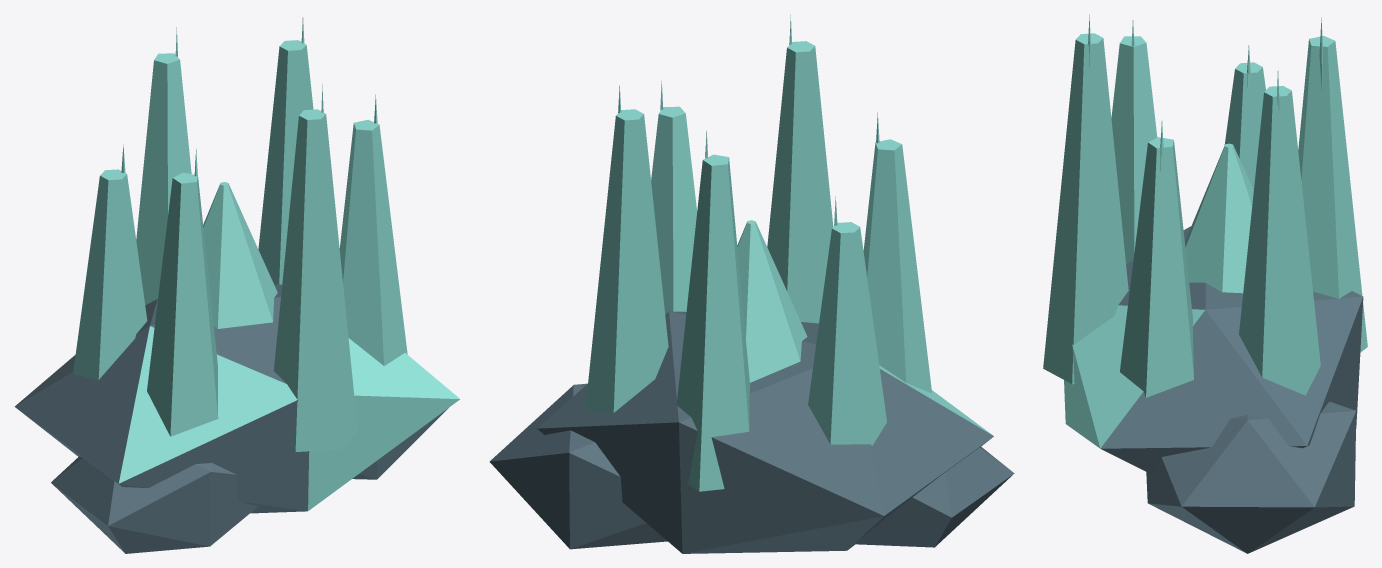
Rendered from ore_quartz.obj.
3 views of the same model, side by side, from view 1: azimuth 30°, elevation 25°; view 2: azimuth 150°, elevation 25°; view 3: azimuth 270°, elevation 25° (orthographic). The views are drawn at different scales.
Parts seen in each view (by area): view 1: ore_quartz; view 2: ore_quartz; view 3: ore_quartz.
Boxes of the visible parts, x1,y1,x2,y2 form: ore_quartz: [14, 17, 460, 553]; ore_quartz: [489, 14, 1014, 553]; ore_quartz: [1043, 14, 1367, 553].
Size of the model in its own units: 1.99 by 2.22 by 1.39.
